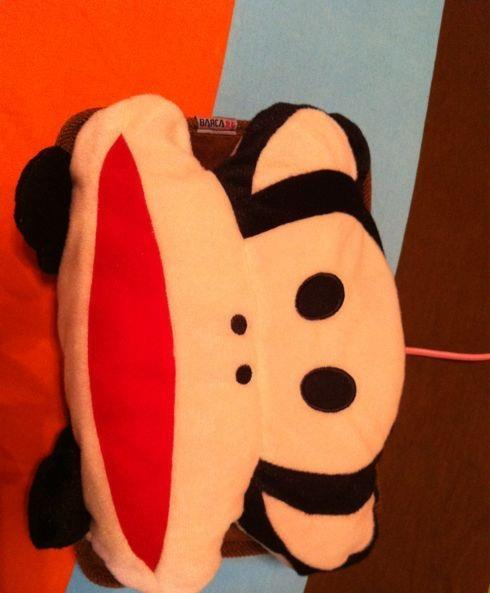Paul_Frank_Julius: (14, 98, 403, 585)
